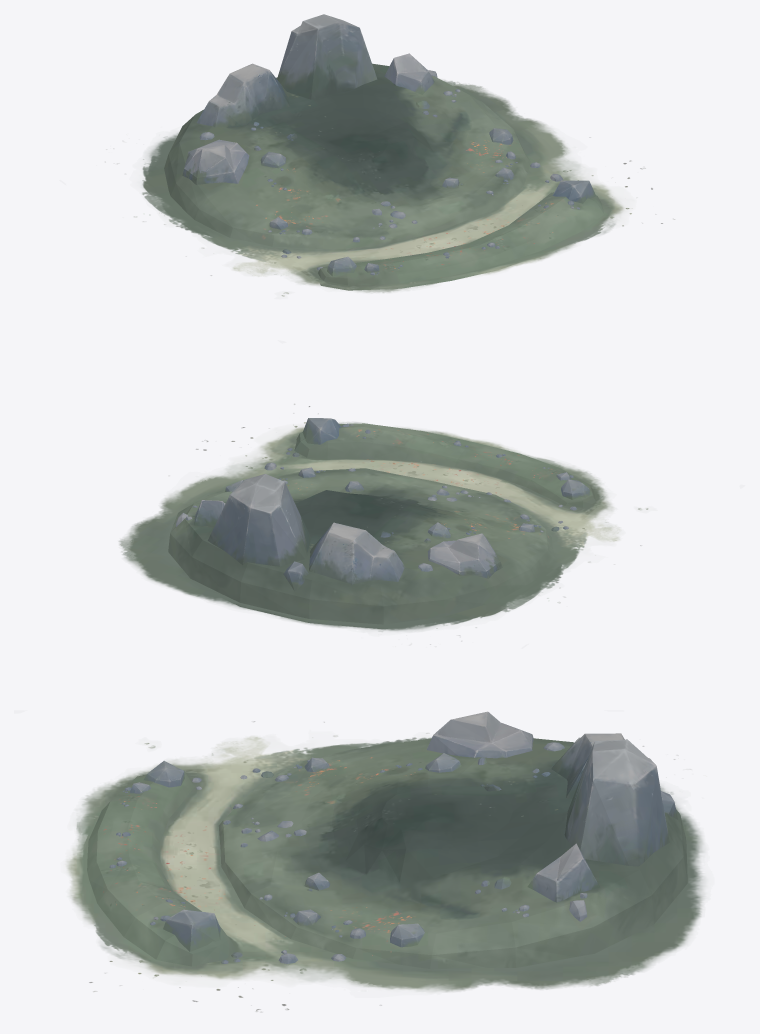
File: ground.glb
3 views of the same model, one above another, from view 1: azimuth 30°, elevation 25°; view 2: azimuth 150°, elevation 25°; view 3: azimuth 270°, elevation 25° (orthographic). The views are drawn at different scales.
Parts seen in each view (by area): view 1: Ground_Ground_0, Rocks_BigRock_0, GroundPlane_Plane_0; view 2: Ground_Ground_0, GroundPlane_Plane_0, Rocks_BigRock_0; view 3: Ground_Ground_0, GroundPlane_Plane_0, Rocks_BigRock_0.
Boxes of the visible parts, bbox=[...] form: Ground_Ground_0: bbox=[164, 63, 603, 290]; Rocks_BigRock_0: bbox=[182, 14, 595, 276]; GroundPlane_Plane_0: bbox=[105, 80, 674, 296]; Ground_Ground_0: bbox=[168, 423, 595, 628]; GroundPlane_Plane_0: bbox=[119, 403, 648, 644]; Rocks_BigRock_0: bbox=[176, 418, 591, 591]; Ground_Ground_0: bbox=[86, 738, 687, 968]; GroundPlane_Plane_0: bbox=[66, 721, 704, 1012]; Rocks_BigRock_0: bbox=[109, 711, 677, 963].
Size of the model in its own units: 5.12 by 1.12 by 5.12.
3 materials, 3 textured.
